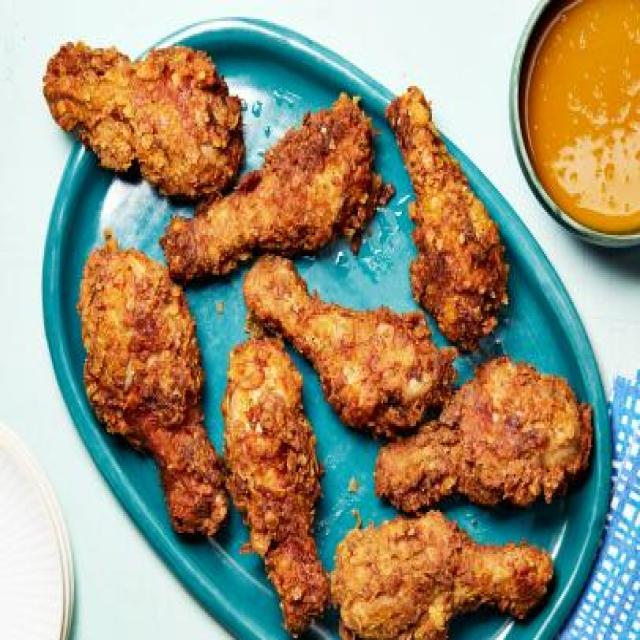Frango: (39, 35, 592, 640)
